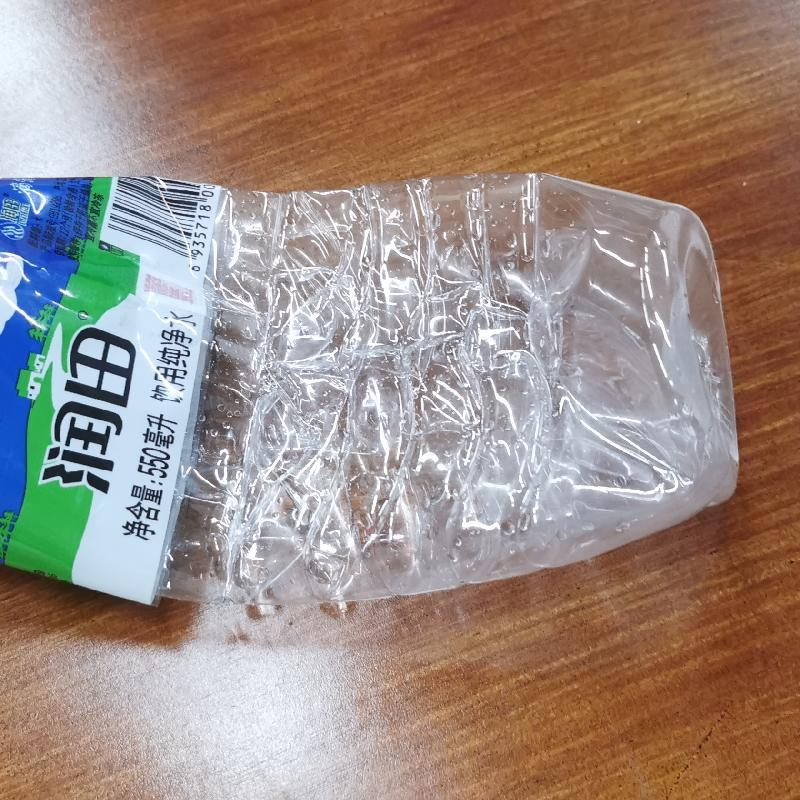bottles: (4, 167, 742, 609)
